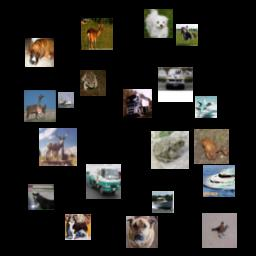airplane: (195, 96, 217, 118)
automobile: (158, 67, 193, 102)
bird: (202, 213, 237, 248)
deer: (39, 128, 77, 166), (24, 90, 56, 122), (81, 18, 113, 50)
dog: (126, 216, 158, 248), (25, 38, 54, 67), (144, 9, 173, 38), (65, 214, 91, 240)
frog: (151, 131, 189, 169), (194, 129, 229, 164), (80, 70, 106, 96)
ship: (203, 165, 235, 197), (152, 191, 174, 213), (58, 92, 74, 108)
truck: (86, 164, 121, 199), (123, 89, 152, 118)
